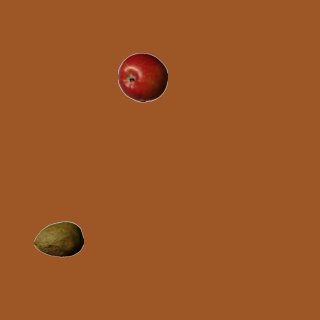Apple Braeburn: (117, 52, 167, 102)
Papaya: (33, 214, 83, 264)
